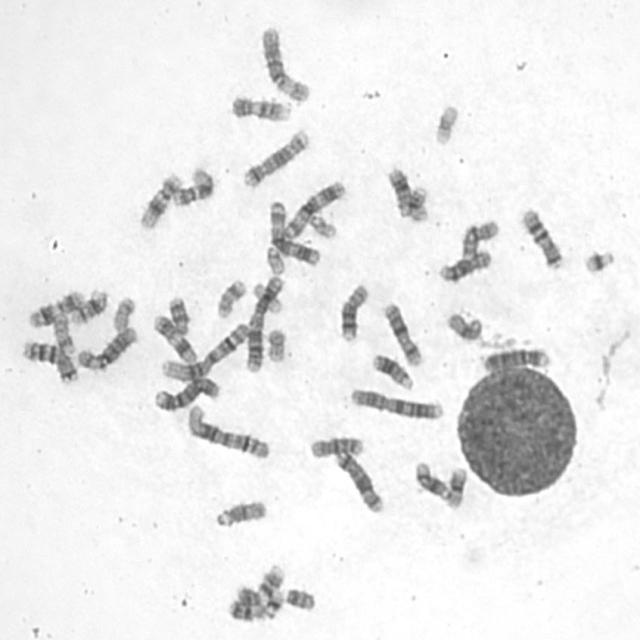A1: (157, 319, 250, 382), (183, 400, 272, 461)
A2: (243, 271, 286, 374), (346, 384, 446, 422)
A3: (278, 176, 348, 240), (266, 197, 322, 267)
B4: (149, 373, 222, 413), (479, 343, 552, 374)
B5: (238, 125, 311, 189), (331, 448, 386, 516)
C10: (457, 216, 501, 260), (306, 432, 366, 460)
C11: (24, 285, 86, 330)
C12: (135, 169, 183, 231), (168, 162, 216, 208)
C6: (256, 21, 312, 104), (73, 322, 138, 372)
C7: (518, 203, 565, 271), (17, 335, 80, 384)
C8: (435, 245, 494, 284), (336, 280, 370, 344)
C9: (226, 90, 293, 124), (236, 562, 285, 607)
D13: (368, 350, 416, 392), (384, 164, 413, 218)
D14: (67, 285, 109, 327), (414, 459, 455, 502)
D15: (211, 496, 268, 529), (443, 309, 484, 343)
E16: (441, 464, 468, 510), (408, 184, 431, 222)
E17: (212, 275, 248, 320), (49, 309, 77, 356)
E18: (164, 292, 192, 336), (227, 600, 267, 624)
F19: (430, 99, 460, 147), (250, 278, 284, 316)
F20: (108, 292, 137, 332), (262, 324, 288, 364)
G21: (580, 245, 616, 275), (259, 586, 286, 620)
G22: (306, 209, 338, 239), (262, 242, 286, 276)
X: (379, 298, 424, 368)
Y: (281, 583, 317, 613)
